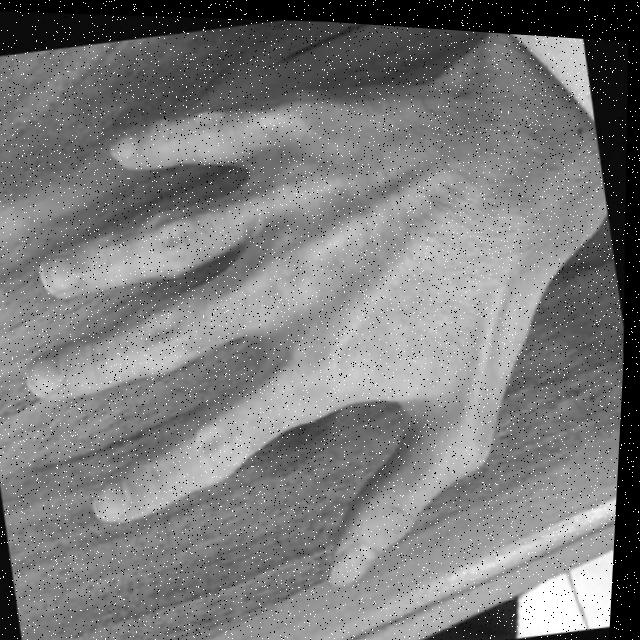hand: (9, 50, 600, 611)
